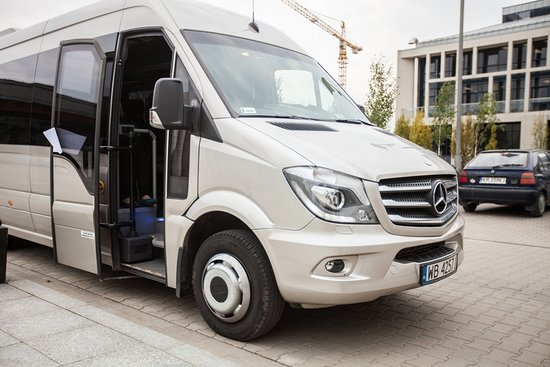tablica: (417, 259, 460, 281), (479, 176, 506, 184)
